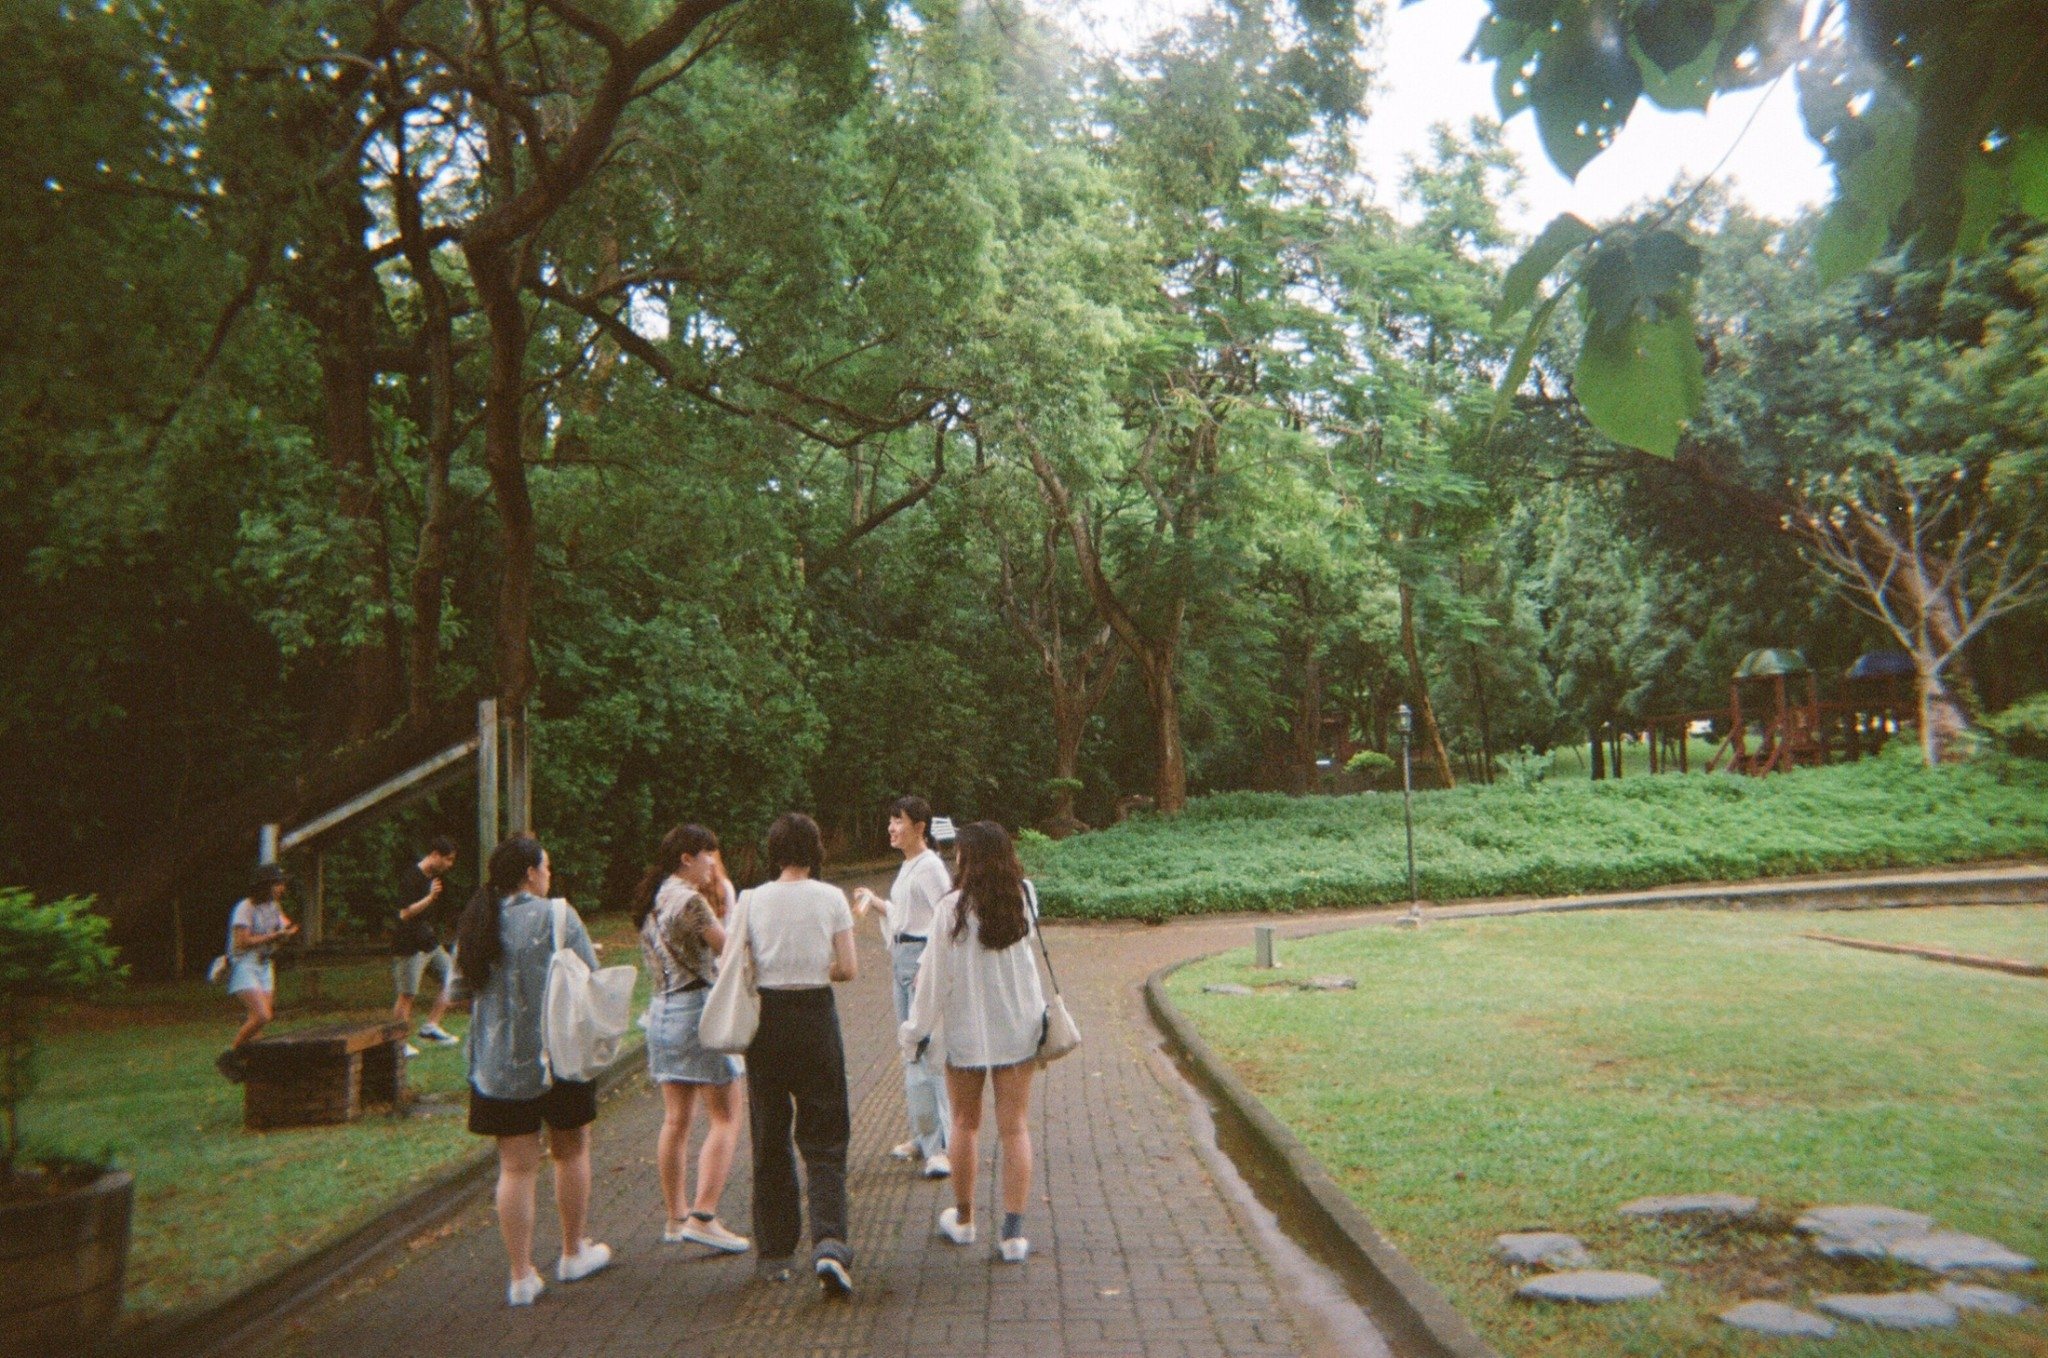people: (454, 833, 613, 1301), (919, 821, 1052, 1271), (743, 813, 860, 1292), (643, 824, 760, 1260), (866, 798, 963, 1183), (402, 839, 460, 1066), (231, 874, 278, 1045)
